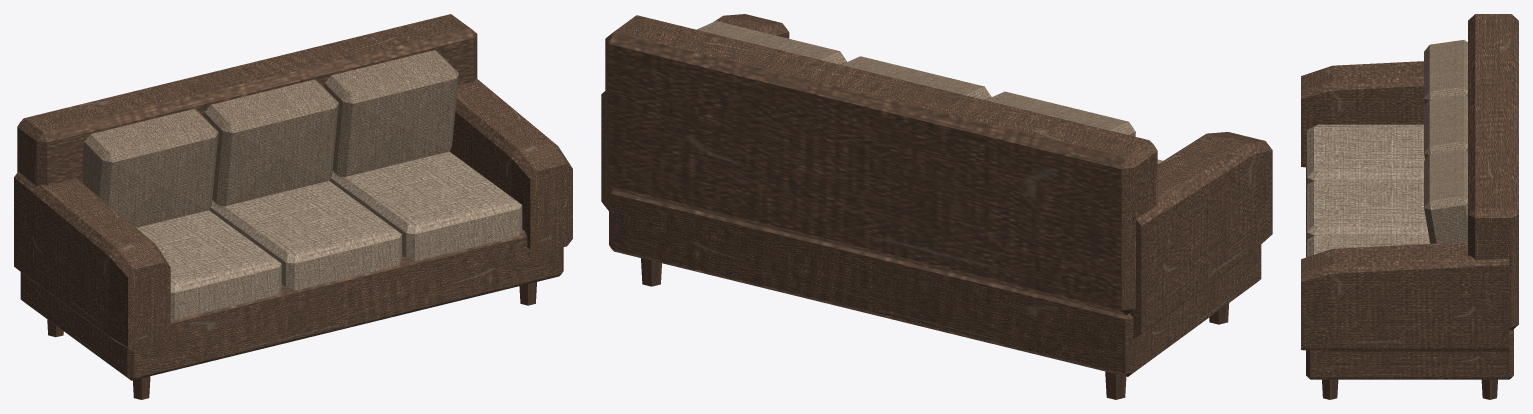
The model's file is couch.glb.
3 renders of one model, left to right at view 1: azimuth 30°, elevation 25°; view 2: azimuth 150°, elevation 25°; view 3: azimuth 270°, elevation 25°, orthographic. The views are drawn at different scales.
Parts seen in each view (by area): view 1: core_couch; view 2: core_couch; view 3: core_couch.
Part boxes in pixels (box(x1,y1,x2,y2)): core_couch: box(14, 14, 572, 399); core_couch: box(601, 14, 1272, 399); core_couch: box(1301, 14, 1518, 399).
Bounding box in the file's own units: 2 × 0.9 × 0.9.
Materials: 1 (1 with a texture image).
